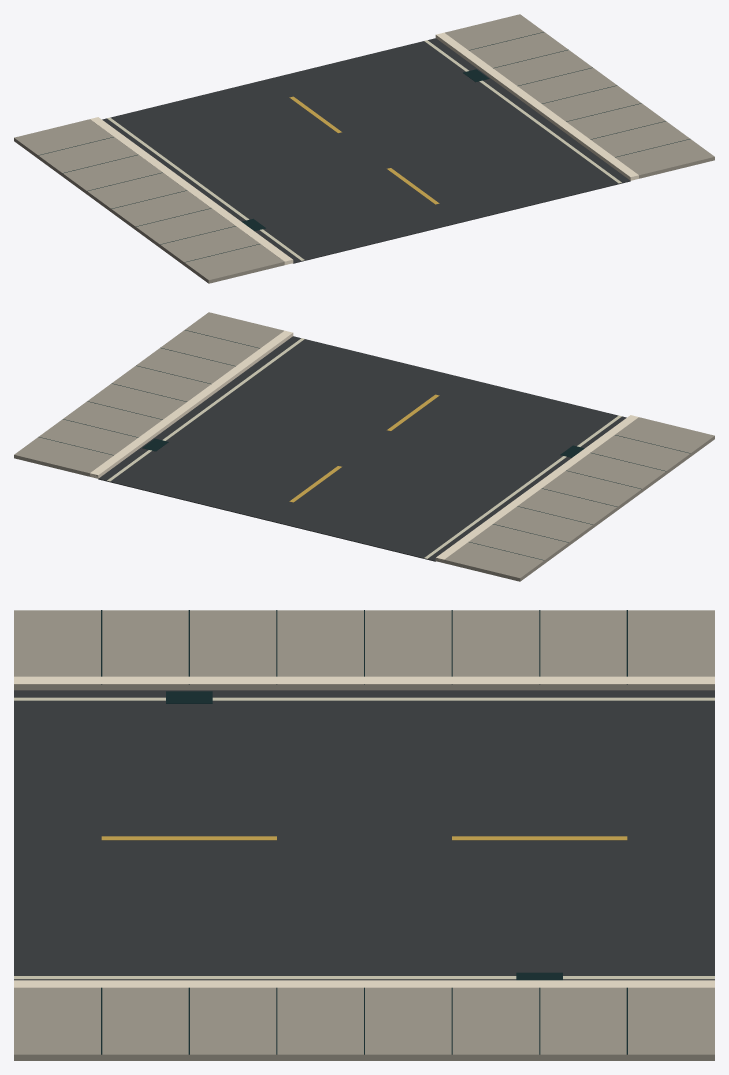
File: oc_road_straight_01.glb
The picture shows the model from 3 angles, top to bottom: view 1: azimuth 30°, elevation 25°; view 2: azimuth 150°, elevation 25°; view 3: azimuth 270°, elevation 25°; orthographic projection. The views are drawn at different scales.
Parts seen in each view (by area): view 1: LOD1_OC_Asphalt, LOD1_OC_Concrete, LOD1_OC_Stucco_Ivory, LOD1_OC_Line_White, LOD1_OC_Charcoal, LOD1_OC_Line_Yellow; view 2: LOD1_OC_Asphalt, LOD1_OC_Concrete, LOD1_OC_Stucco_Ivory, LOD1_OC_Line_White, LOD1_OC_Charcoal, LOD1_OC_Line_Yellow; view 3: LOD1_OC_Asphalt, LOD1_OC_Concrete, LOD1_OC_Stucco_Ivory, LOD1_OC_Line_White, LOD1_OC_Charcoal, LOD1_OC_Line_Yellow.
Boxes of the visible parts, x1,y1,x2,y2 form: LOD1_OC_Asphalt: (102, 38, 630, 263); LOD1_OC_Concrete: (14, 14, 714, 283); LOD1_OC_Stucco_Ivory: (90, 32, 638, 264); LOD1_OC_Line_White: (107, 40, 621, 260); LOD1_OC_Charcoal: (38, 32, 689, 262); LOD1_OC_Line_Yellow: (289, 96, 439, 204); LOD1_OC_Asphalt: (98, 336, 626, 561); LOD1_OC_Concrete: (14, 312, 714, 581); LOD1_OC_Stucco_Ivory: (90, 330, 638, 560); LOD1_OC_Line_White: (107, 338, 621, 558); LOD1_OC_Charcoal: (39, 330, 690, 560); LOD1_OC_Line_Yellow: (289, 394, 439, 502); LOD1_OC_Asphalt: (14, 690, 714, 980); LOD1_OC_Concrete: (14, 610, 714, 1060); LOD1_OC_Stucco_Ivory: (14, 676, 714, 987); LOD1_OC_Line_White: (14, 697, 714, 979); LOD1_OC_Charcoal: (101, 610, 627, 1054); LOD1_OC_Line_Yellow: (101, 836, 627, 840).
Bounding box in the file's own units: 18 × 0.1431 × 12.
